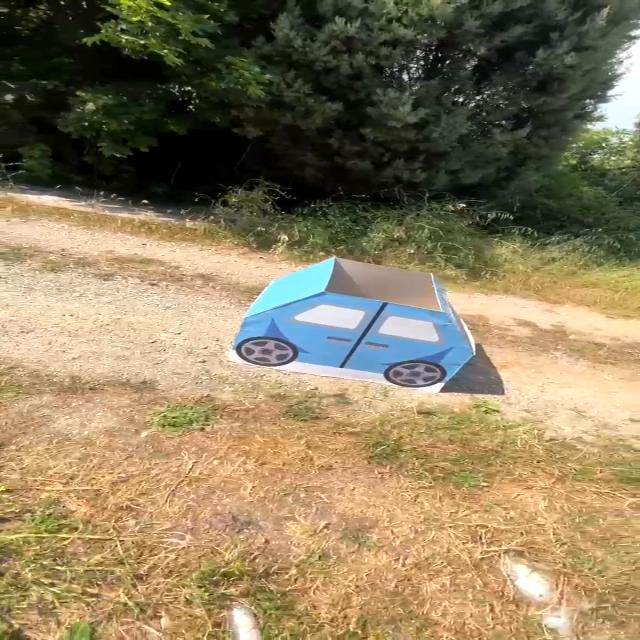blue_car: (207, 250, 497, 417)
